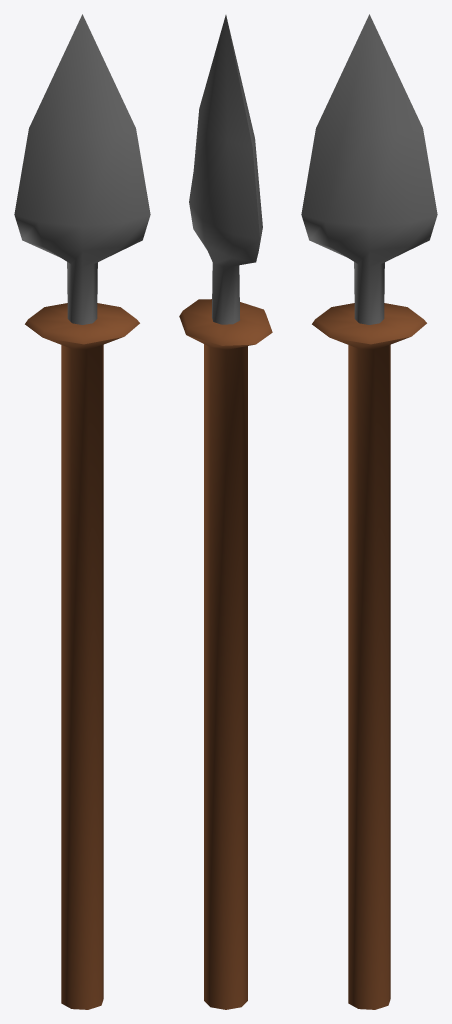
The model's file is Spear.fbx.
3 views of the same model, side by side, from view 1: azimuth 90°, elevation 25°; view 2: azimuth 210°, elevation 25°; view 3: azimuth 270°, elevation 25° (orthographic).
Visible parts, largest first — view 1: Cylinder; view 2: Cylinder; view 3: Cylinder.
Boxes of the visible parts, x1,y1,x2,y2 form: Cylinder: [14, 14, 150, 1009]; Cylinder: [179, 15, 272, 1009]; Cylinder: [301, 14, 437, 1009].
Bounding box in the file's own units: 0.1255 × 1.45 × 0.1817.
